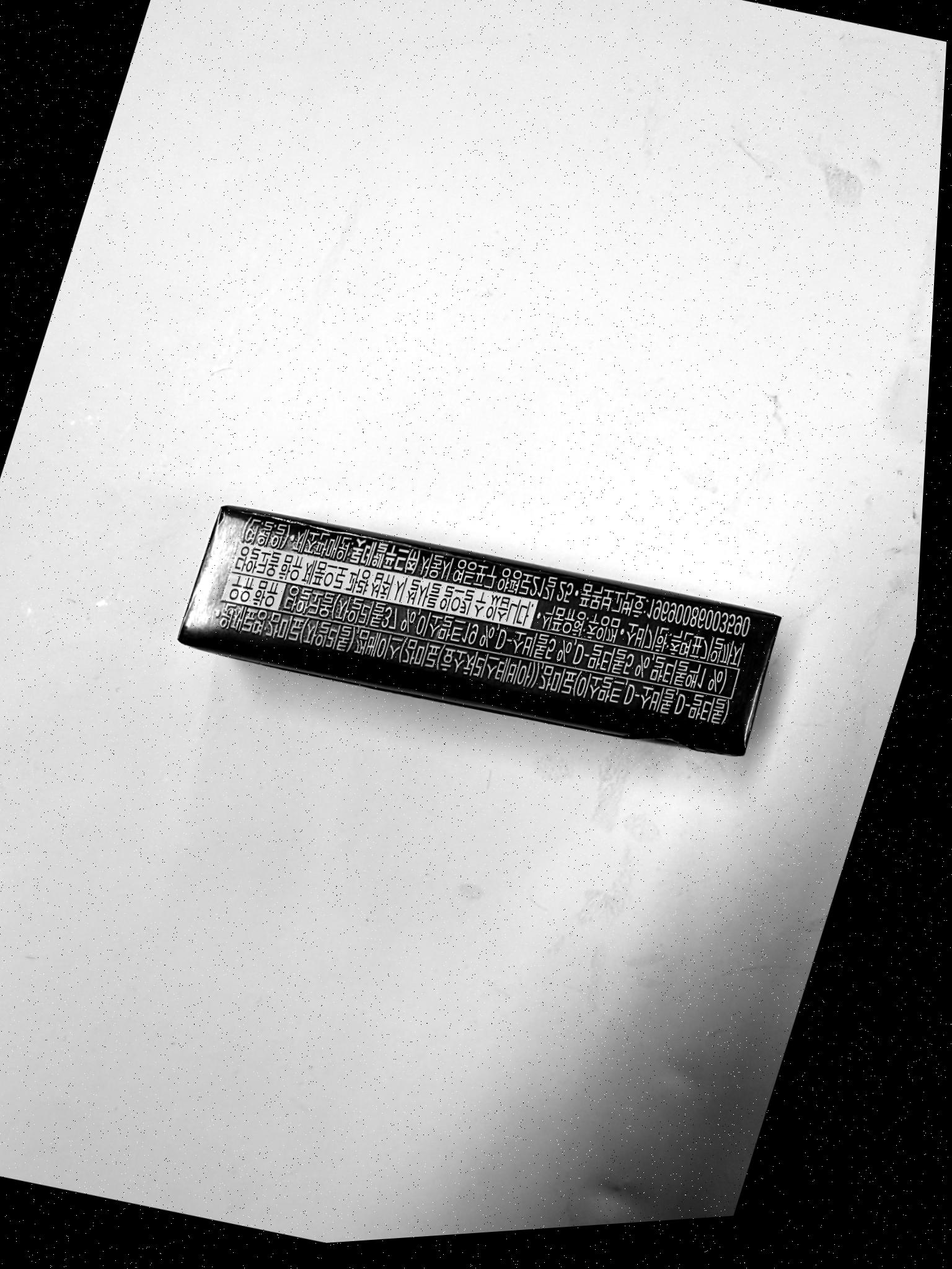gum_green: (178, 505, 777, 753)
